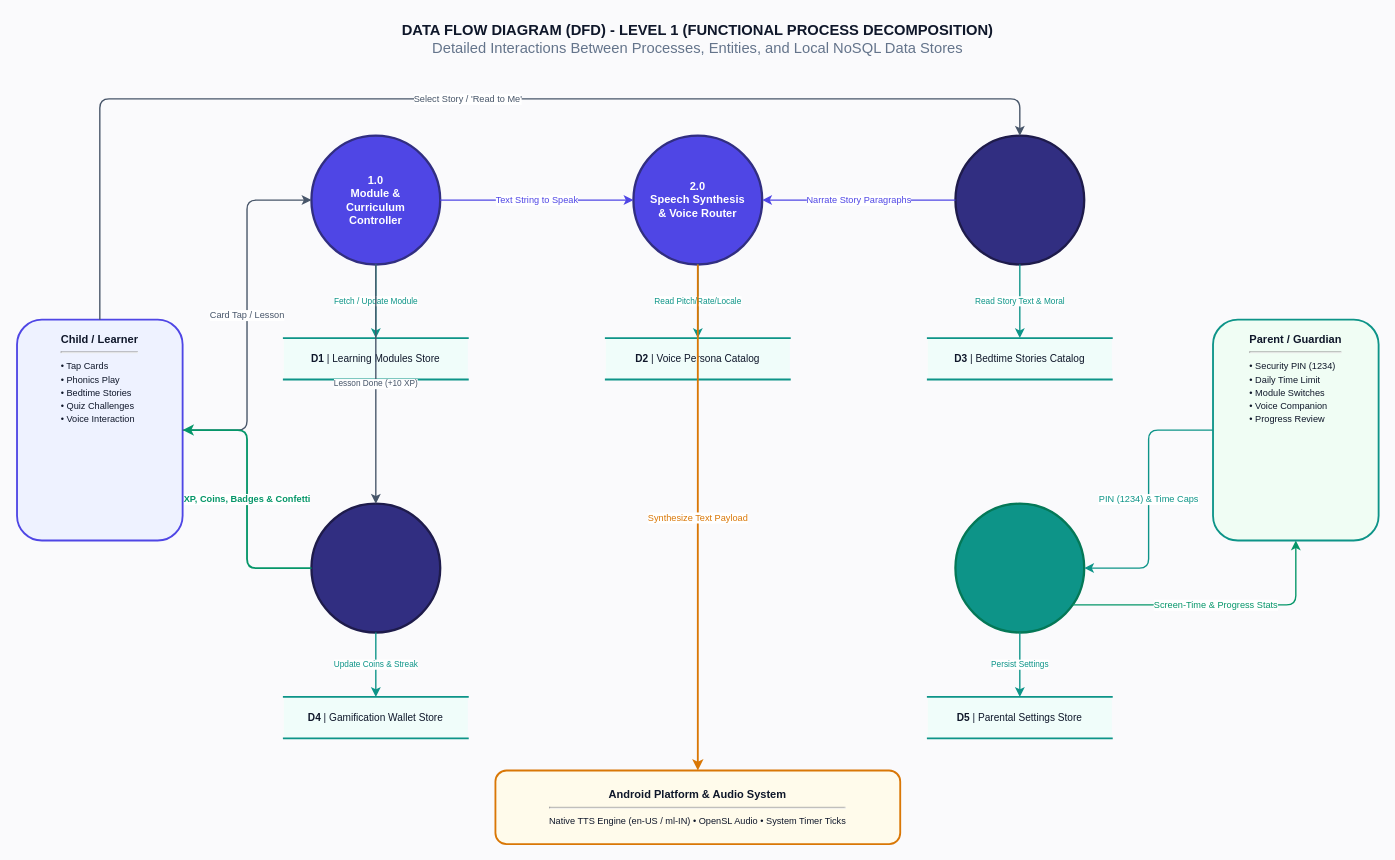
The diagram is 1395 pixels wide and 860 high, and some of its shapes have lost their labels. The centre of each missing label's shape, as x and y in pixels:
3.0 Bedtime Stories & Language Engine: (1019,199)
4.0 Gamification, XP & Streak Processor: (375,567)
5.0 Parental Gate & Security Guard: (1019,567)
